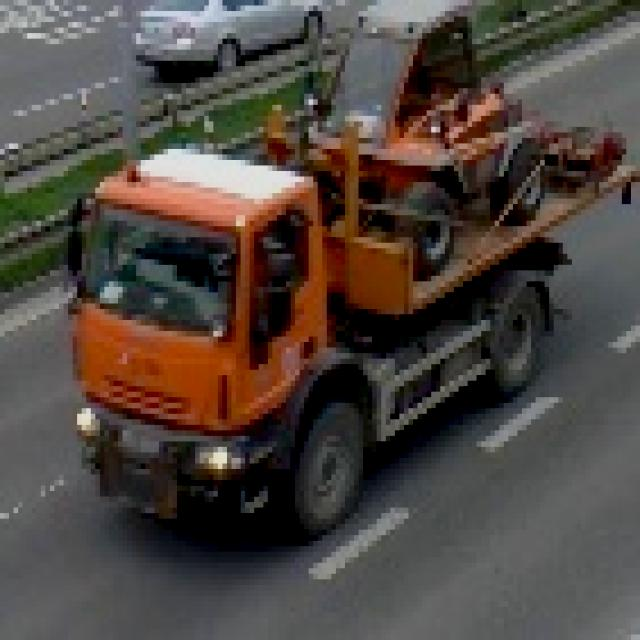truck: (60, 1, 636, 542)
